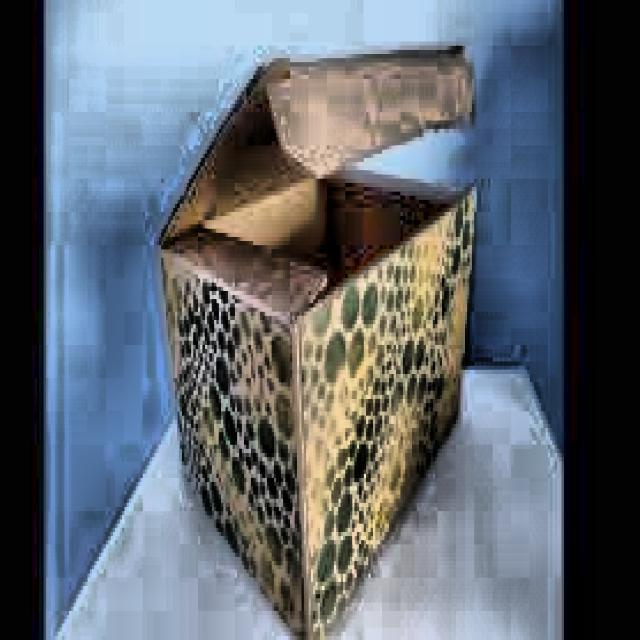cardboard: (151, 41, 476, 640)
